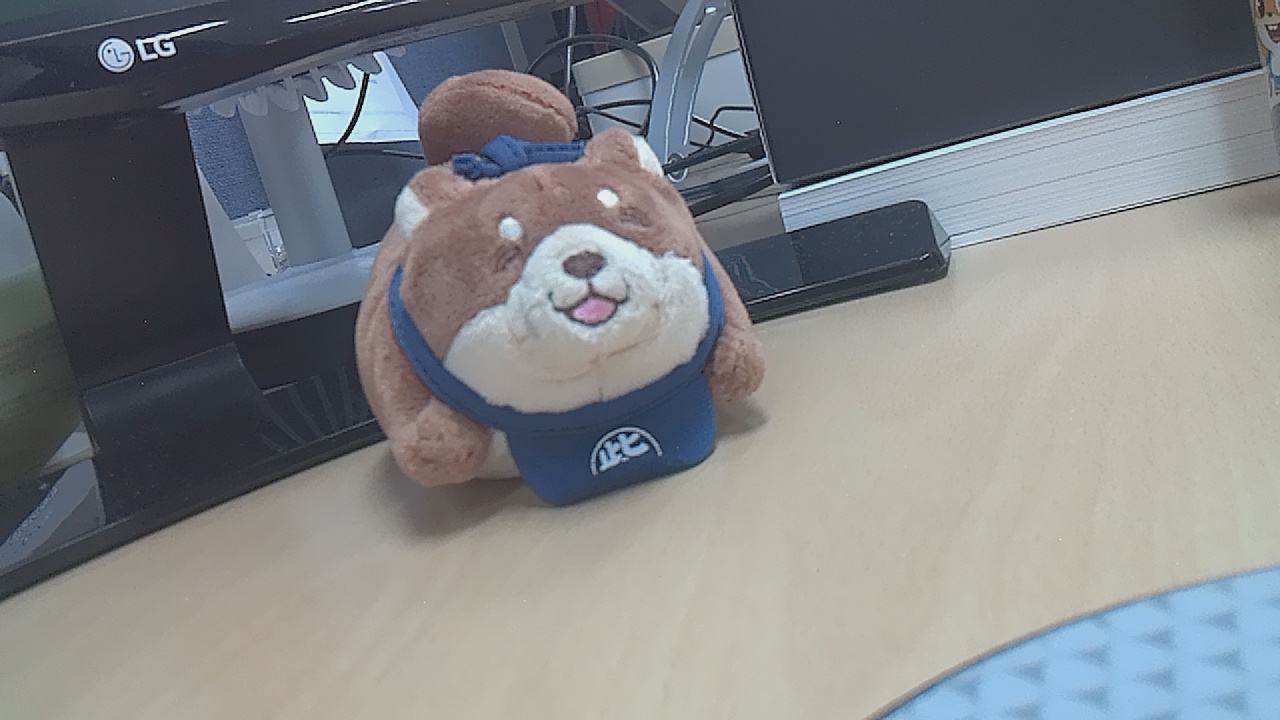cuteDog: (360, 76, 784, 532)
